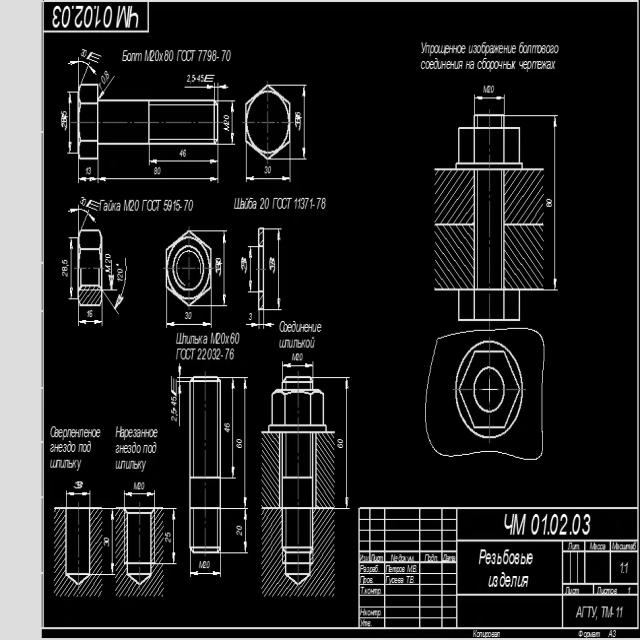marking_line: (343, 379, 351, 508), (115, 255, 132, 309), (66, 58, 98, 83), (243, 379, 249, 508), (100, 176, 218, 182), (66, 207, 99, 228), (553, 117, 557, 290), (230, 380, 236, 477), (150, 157, 218, 165), (221, 231, 228, 306), (276, 229, 282, 308), (101, 75, 120, 98), (171, 509, 178, 563), (302, 87, 307, 159), (69, 239, 75, 297), (167, 321, 212, 328), (110, 511, 115, 574), (247, 175, 289, 182), (67, 93, 72, 151), (245, 321, 275, 330), (247, 248, 253, 290), (107, 258, 115, 289), (243, 509, 248, 554), (283, 362, 313, 369), (230, 103, 235, 144), (182, 85, 214, 91), (476, 95, 503, 101), (189, 571, 220, 576), (80, 175, 99, 183), (77, 320, 102, 326), (124, 491, 154, 496), (67, 491, 91, 497), (179, 382, 182, 429), (218, 83, 229, 91), (177, 363, 183, 377)
numeric: (196, 347, 221, 364), (162, 197, 181, 213), (197, 48, 217, 63), (294, 196, 313, 211), (58, 107, 68, 131), (258, 196, 271, 213), (170, 395, 177, 423), (220, 47, 233, 62), (224, 347, 237, 362), (266, 256, 276, 275), (316, 196, 328, 211), (184, 197, 195, 213), (294, 112, 302, 133), (164, 47, 175, 62), (239, 257, 248, 275), (214, 258, 222, 278), (187, 73, 204, 82), (235, 520, 243, 538), (199, 559, 212, 570), (151, 49, 161, 63), (61, 258, 68, 277), (130, 200, 139, 214), (133, 480, 147, 489), (165, 529, 172, 547), (235, 437, 243, 451), (263, 162, 273, 173), (73, 480, 84, 489), (487, 83, 496, 94), (337, 437, 344, 451), (178, 149, 190, 157), (546, 197, 553, 210), (183, 309, 192, 319), (87, 308, 95, 319), (224, 421, 230, 434), (81, 47, 87, 59), (105, 252, 111, 264), (104, 537, 110, 549), (223, 115, 230, 125), (154, 167, 162, 175), (86, 166, 93, 175), (248, 312, 253, 321)
